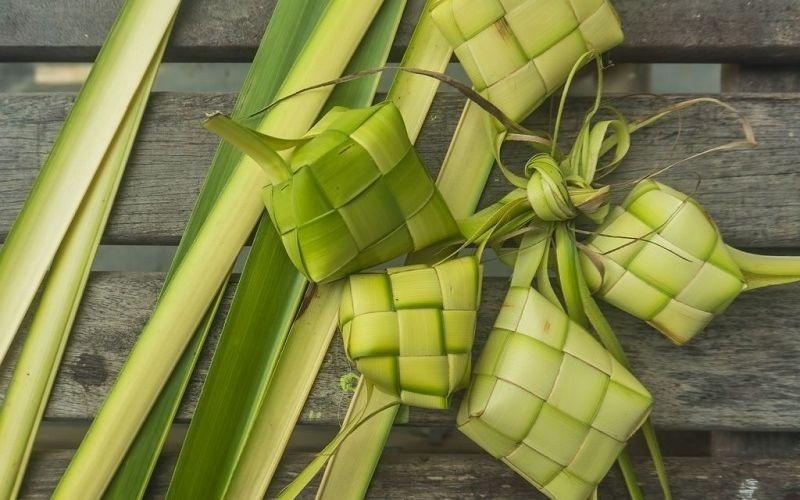ketupat: (453, 288, 653, 499), (259, 104, 462, 284), (575, 179, 745, 348), (338, 258, 476, 410)
